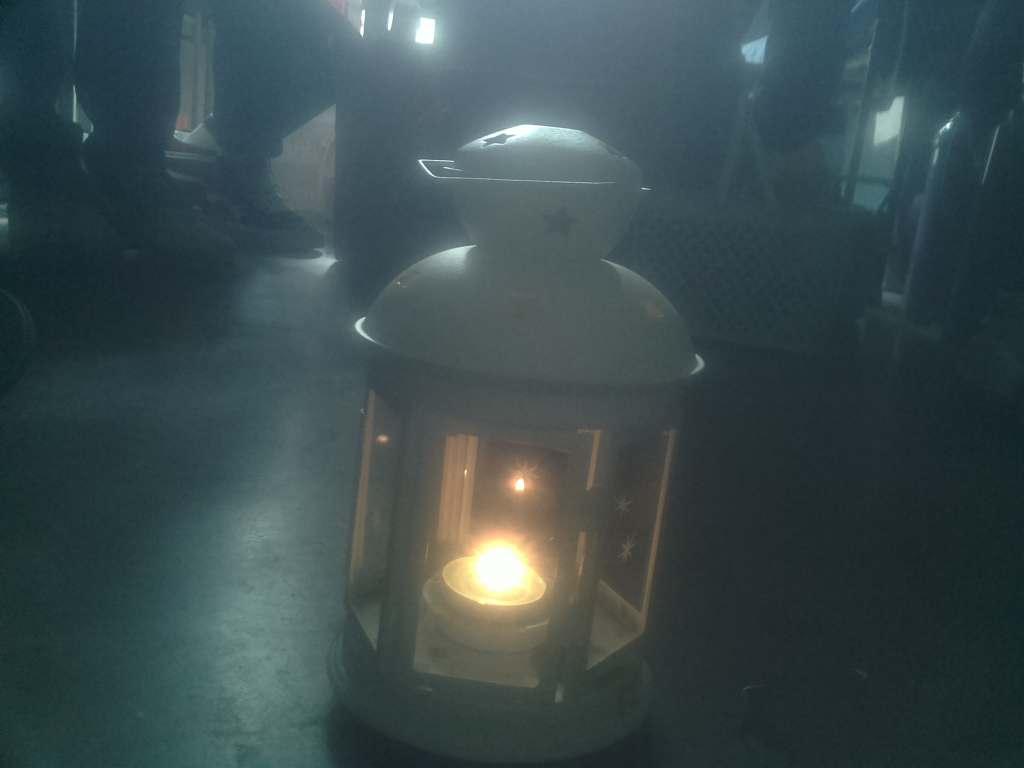fire: (429, 517, 566, 657)
